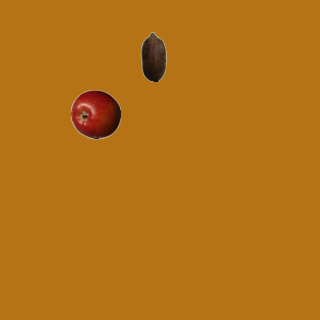Apple Braeburn: (70, 89, 120, 139)
Nut Pecan: (128, 31, 178, 81)
